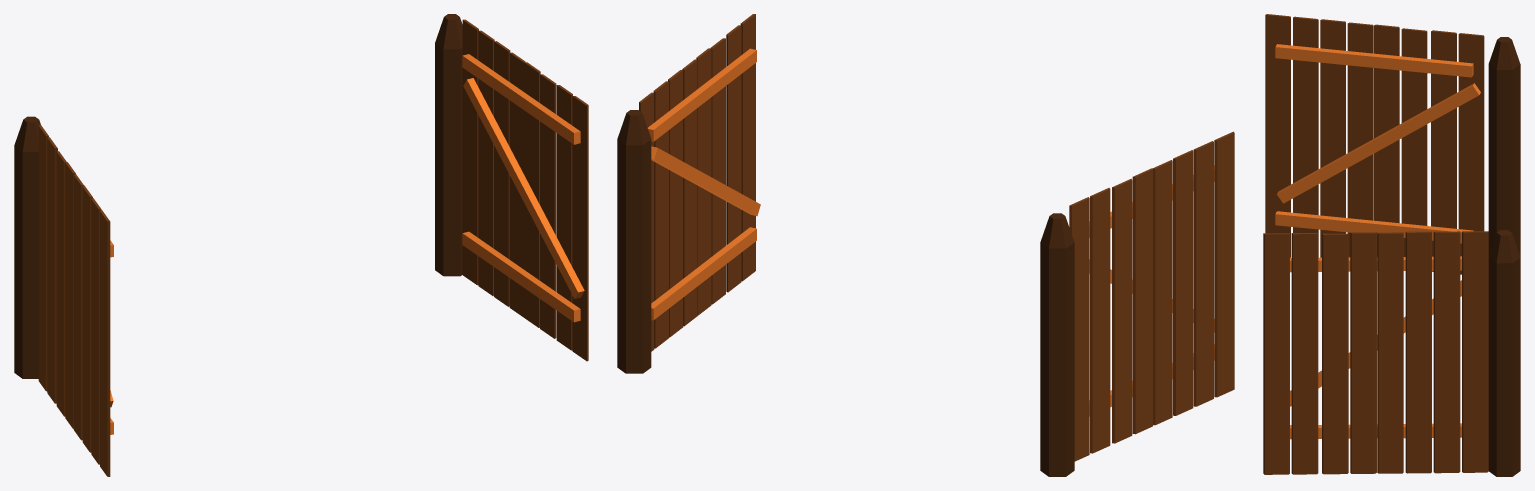
Rendered from Vorota.fbx.
3 views of the same model, side by side, from view 1: azimuth 30°, elevation 25°; view 2: azimuth 150°, elevation 25°; view 3: azimuth 270°, elevation 25° (orthographic). The views are drawn at different scales.
Visible parts, largest first — view 1: Cube.004, Cylinder.001, Cylinder, Cube.007, Cube.009, Cube.008; view 2: Cube.004, Cylinder.001, Cylinder, Cube.009, Cube.008, Cube.007; view 3: Cube.004, Cylinder.001, Cylinder, Cube.006, Cube, Cube.005.
Boxes of the visible parts, x1,y1,x2,y2 form: Cube.004: [38, 19, 588, 476]; Cylinder.001: [435, 14, 462, 276]; Cylinder: [14, 116, 40, 378]; Cube.007: [463, 78, 584, 298]; Cube.009: [462, 54, 580, 144]; Cube.008: [462, 231, 580, 322]; Cube.004: [639, 14, 1234, 461]; Cylinder.001: [617, 110, 651, 373]; Cylinder: [1040, 213, 1074, 476]; Cube.009: [647, 48, 756, 141]; Cube.008: [651, 227, 756, 320]; Cube.007: [651, 146, 760, 216]; Cube.004: [1263, 14, 1488, 474]; Cylinder.001: [1488, 230, 1520, 476]; Cylinder: [1488, 37, 1520, 256]; Cube.006: [1277, 83, 1480, 203]; Cube: [1275, 44, 1473, 77]; Cube.005: [1275, 211, 1473, 243].
Bounding box in the file's own units: 1804 × 913 × 882.
